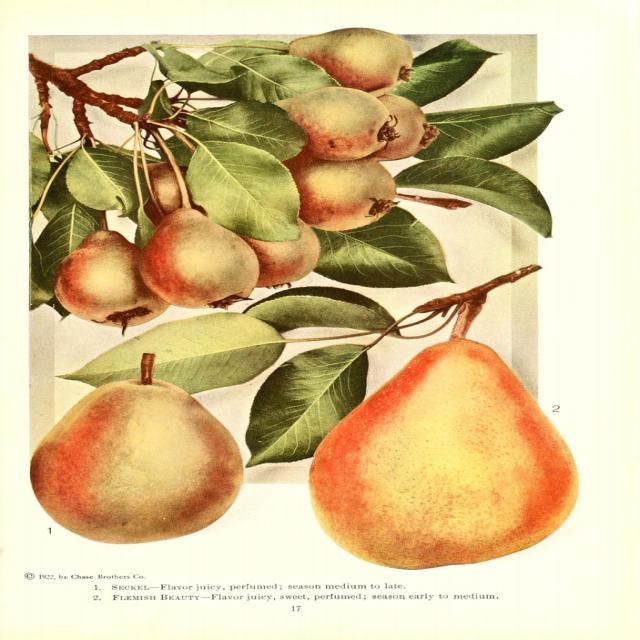Pear: (53, 27, 440, 336), (306, 339, 576, 568), (29, 377, 240, 542)
